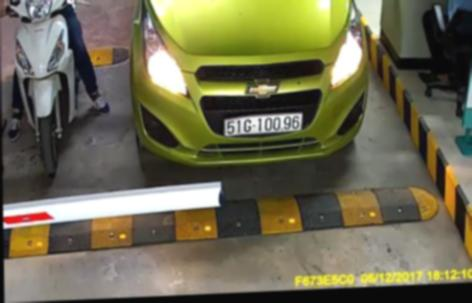License_Plate: (223, 109, 304, 140)
